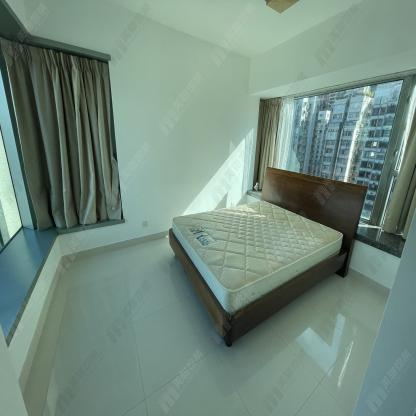Bed: (169, 200, 355, 348)
Windowsill: (238, 50, 416, 257)
